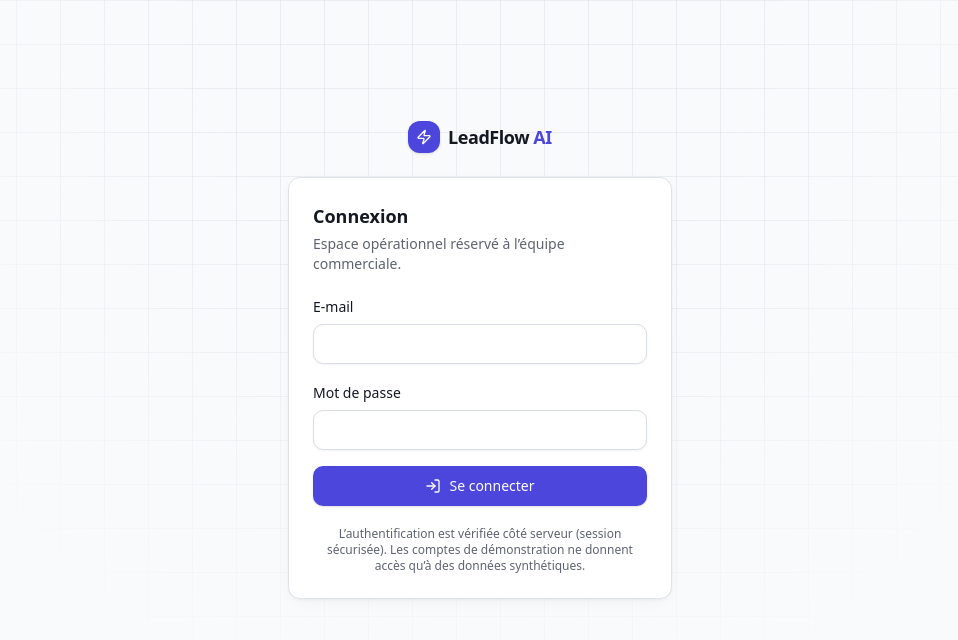
Test: Navigation et accès › validation du formulaire de connexion
Step 1. Click the button "Se connecter" → [480, 486], box [313,466,647,506]
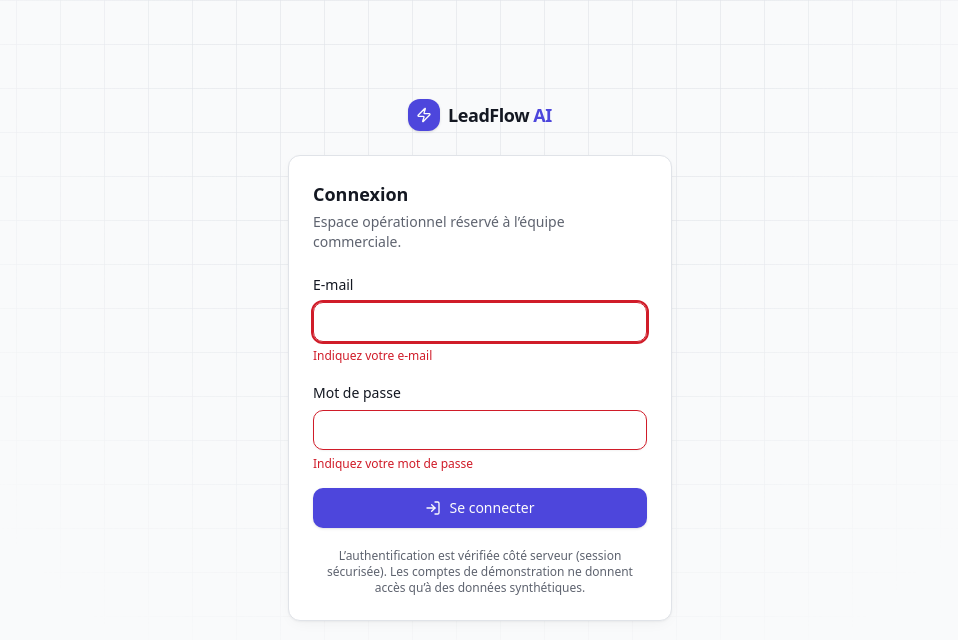
Result: the text "Indiquez votre e-mail" is shown at [313,347,432,364]
Result: the text "Indiquez votre mot de passe" is shown at [313,455,473,472]
